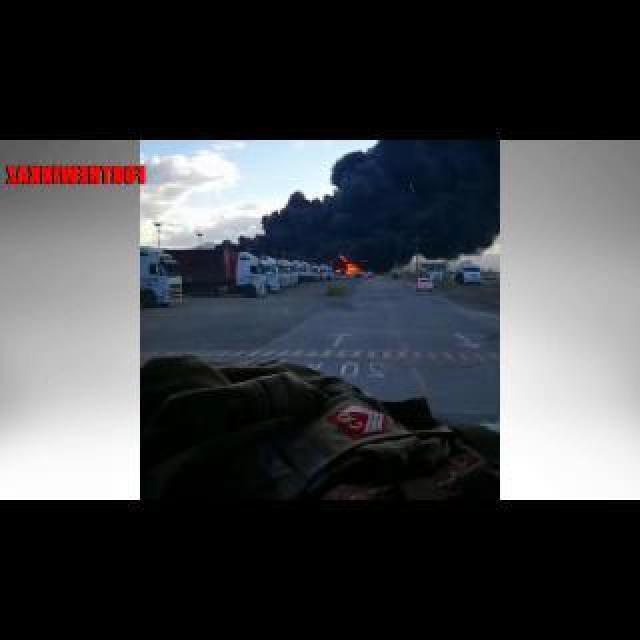fire: (223, 140, 497, 255)
smoke: (336, 258, 360, 276)
